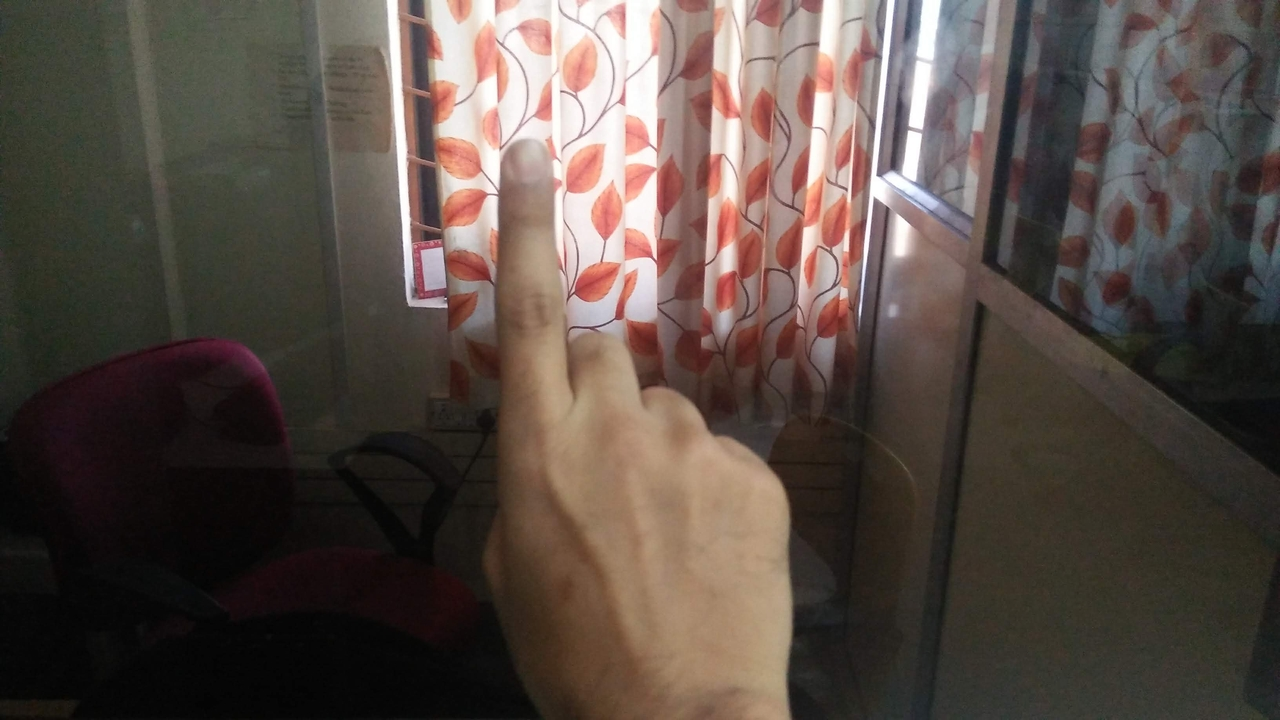fingertip: (496, 134, 550, 192)
